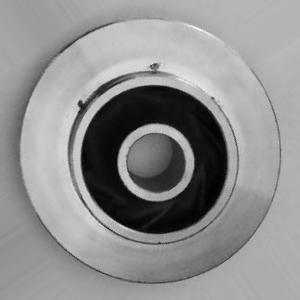crack: (144, 56, 167, 79), (68, 96, 93, 113)
scratch: (173, 73, 228, 104)
unpolished_casting: (19, 18, 283, 286)
